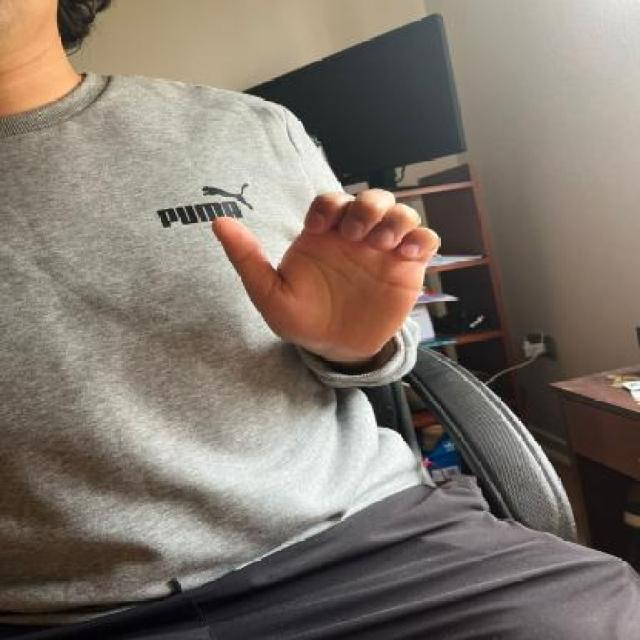E: (199, 167, 447, 367)
